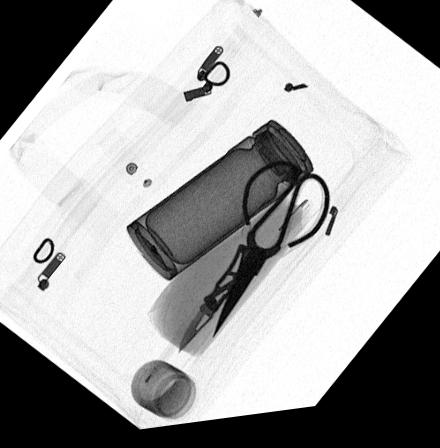Knife: (178, 249, 257, 357)
Scissors: (213, 168, 328, 344)
